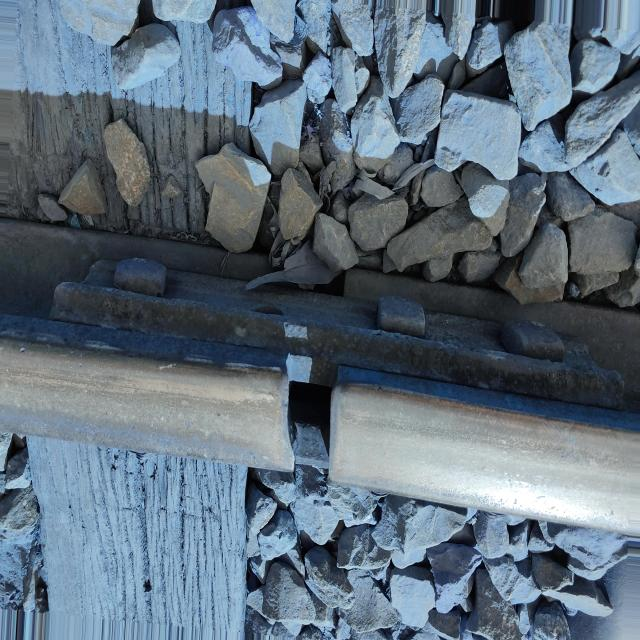crack: (252, 344, 390, 503)
